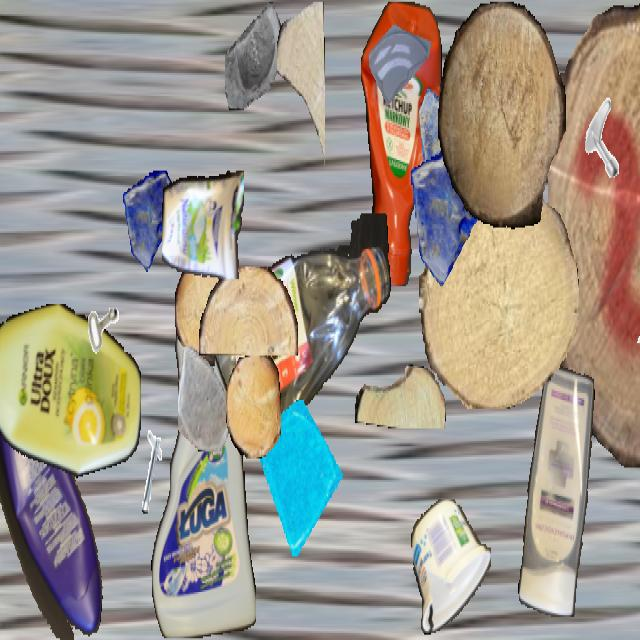glass: (259, 400, 347, 556), (409, 140, 493, 290), (369, 2, 431, 112), (225, 2, 285, 108), (178, 346, 236, 449), (419, 82, 475, 181), (123, 171, 179, 270)
metal: (67, 254, 127, 361), (127, 430, 183, 530), (579, 92, 631, 185), (632, 265, 640, 343)
plastic: (213, 213, 391, 423), (151, 301, 255, 638), (0, 386, 108, 638), (0, 304, 141, 482), (361, 2, 441, 286), (517, 366, 595, 615), (411, 500, 491, 634), (162, 164, 244, 278)
wood: (548, 1, 640, 468), (419, 194, 579, 407), (438, 2, 566, 229), (199, 266, 297, 356), (277, 2, 325, 172), (355, 364, 445, 428), (226, 356, 280, 458), (175, 260, 225, 366)
